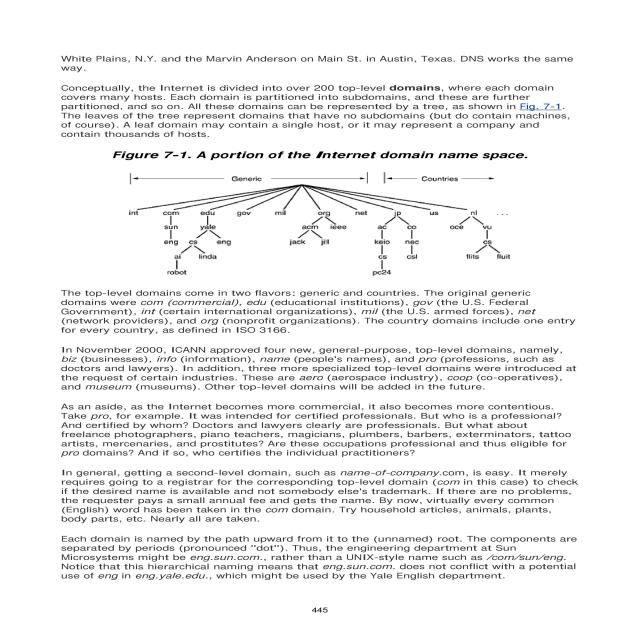diagram: (80, 145, 546, 282)
